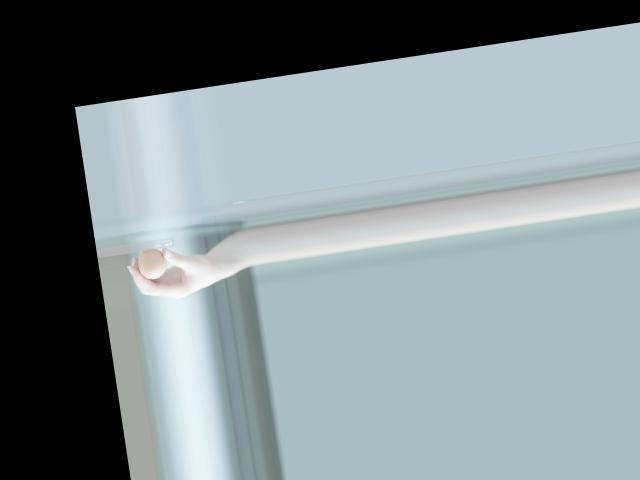egg: (134, 245, 169, 281)
